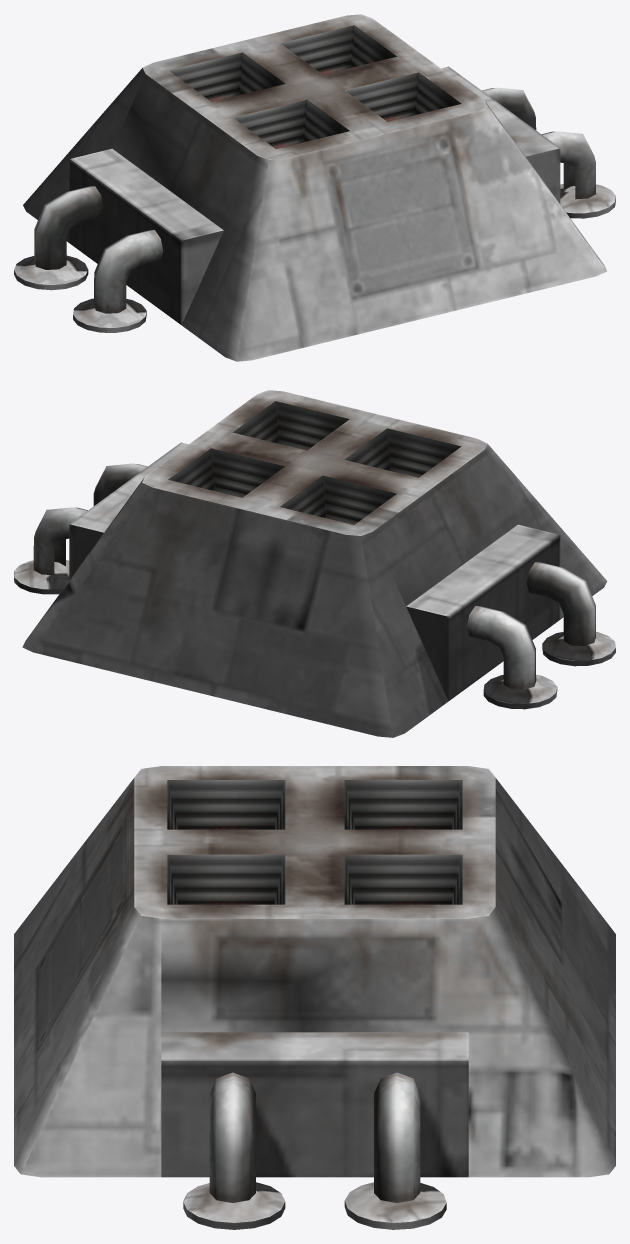
The model's file is OBJ_Steambox.FBX.
The picture shows the model from 3 angles, top to bottom: view 1: azimuth 30°, elevation 25°; view 2: azimuth 150°, elevation 25°; view 3: azimuth 270°, elevation 25°; orthographic projection. The views are drawn at different scales.
Parts seen in each view (by area): view 1: OBJ_Steambox; view 2: OBJ_Steambox; view 3: OBJ_Steambox.
Part boxes in pixels (x1,y1,x2,y2): OBJ_Steambox: (14, 14, 615, 361); OBJ_Steambox: (14, 390, 615, 737); OBJ_Steambox: (14, 766, 615, 1229).
Size of the model in its own units: 2.94 by 0.7989 by 2.09.
1 material, 1 textured.
